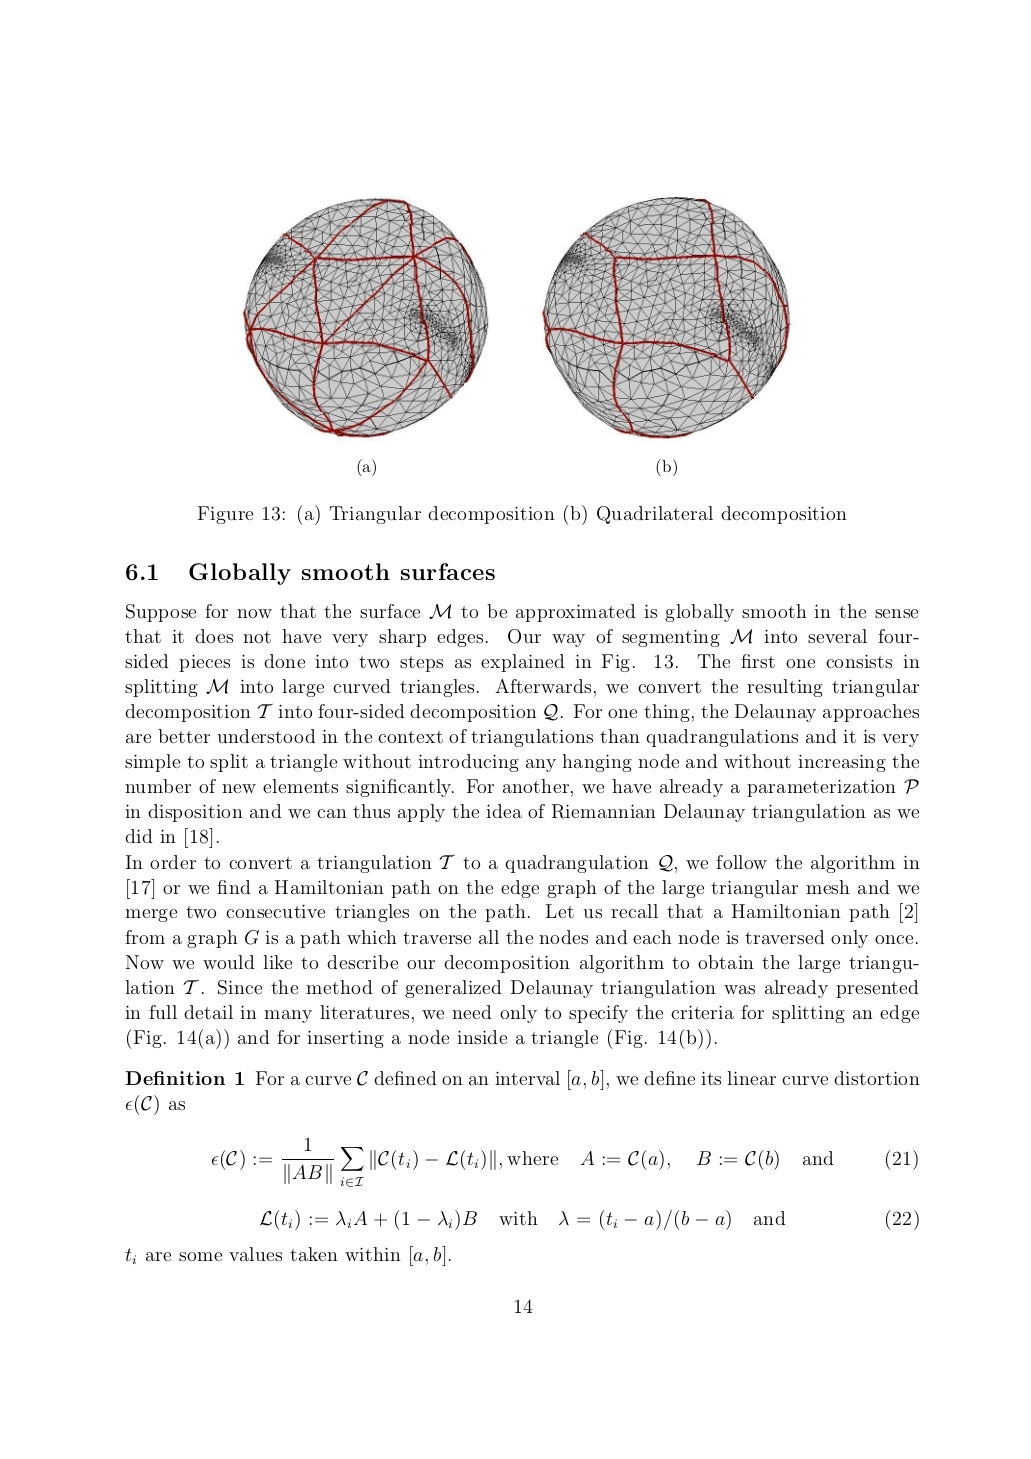figure: (541, 195, 790, 439), (242, 197, 488, 438)
formula: (212, 1136, 917, 1187), (259, 1208, 918, 1230)
